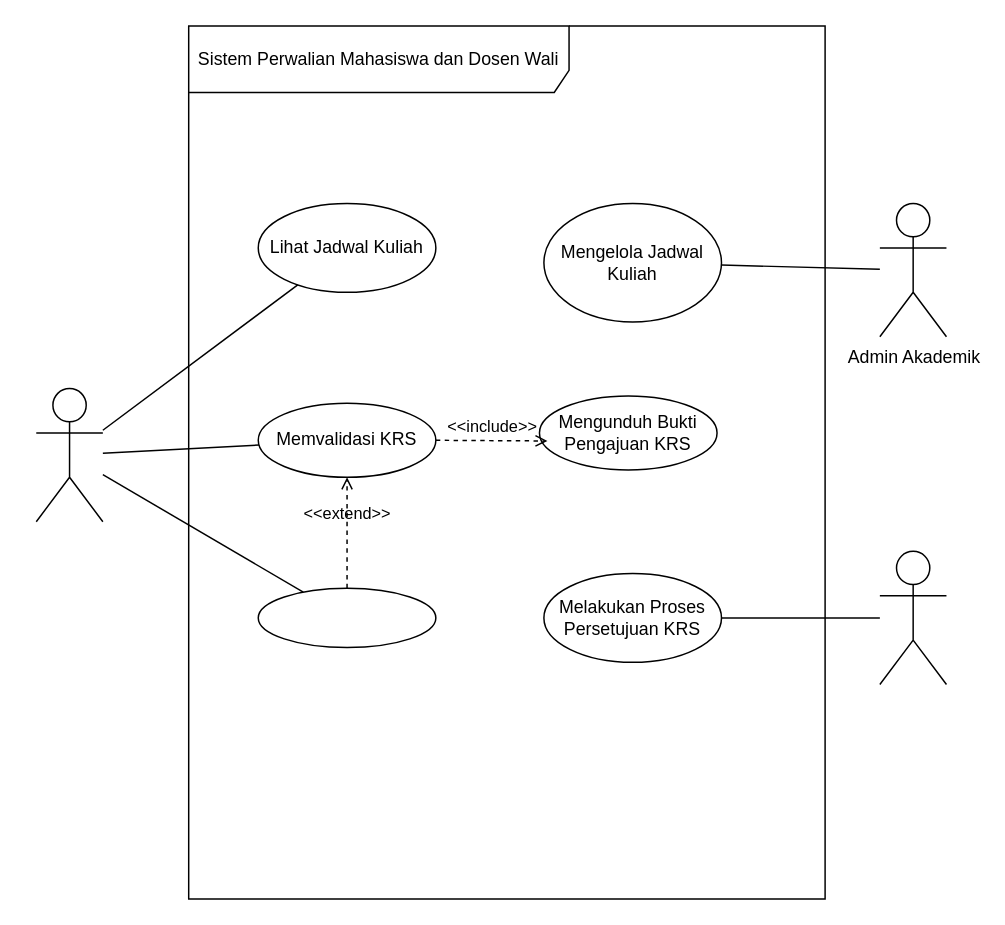
Image size: 1005x925. Some labels were removed from this diagram. The shapes that lost their labels are listed below. From the top down, each one's box as (x1, y1, x2, y2) in pixels, then its label:
(35, 387, 103, 522): Mahasiswa
(257, 587, 436, 648): Mengajukan KRS
(878, 550, 946, 684): Dosen Wali
